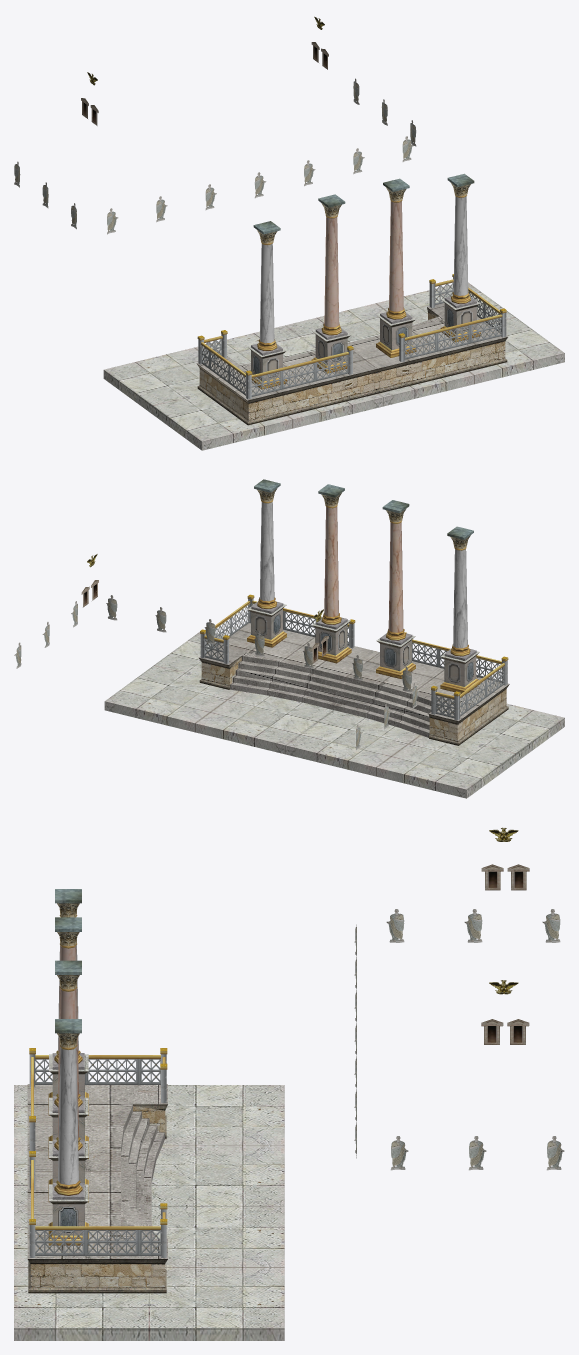
Rendered from roman_cc_transp.dae.
3 renders of one model, top to bottom at view 1: azimuth 30°, elevation 25°; view 2: azimuth 150°, elevation 25°; view 3: azimuth 270°, elevation 25°, orthographic. The views are drawn at different scales.
Visible parts, largest first — view 1: Cube_002; view 2: Cube_002; view 3: Cube_002.
Part boxes in pixels (<box>): Cube_002: <box>14,16,564,450</box>; Cube_002: <box>14,479,564,798</box>; Cube_002: <box>14,827,564,1340</box>.
Size of the model in its own units: 36.17 by 34.6 by 21.92.
